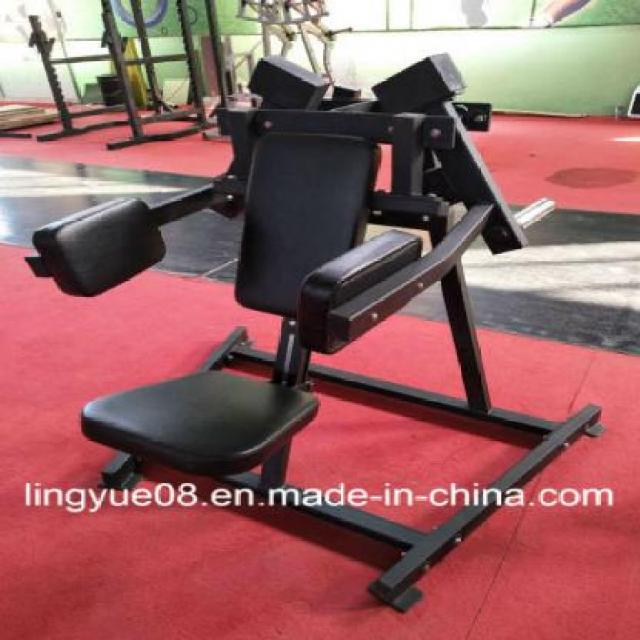lateral raises machine: (24, 55, 614, 483)
